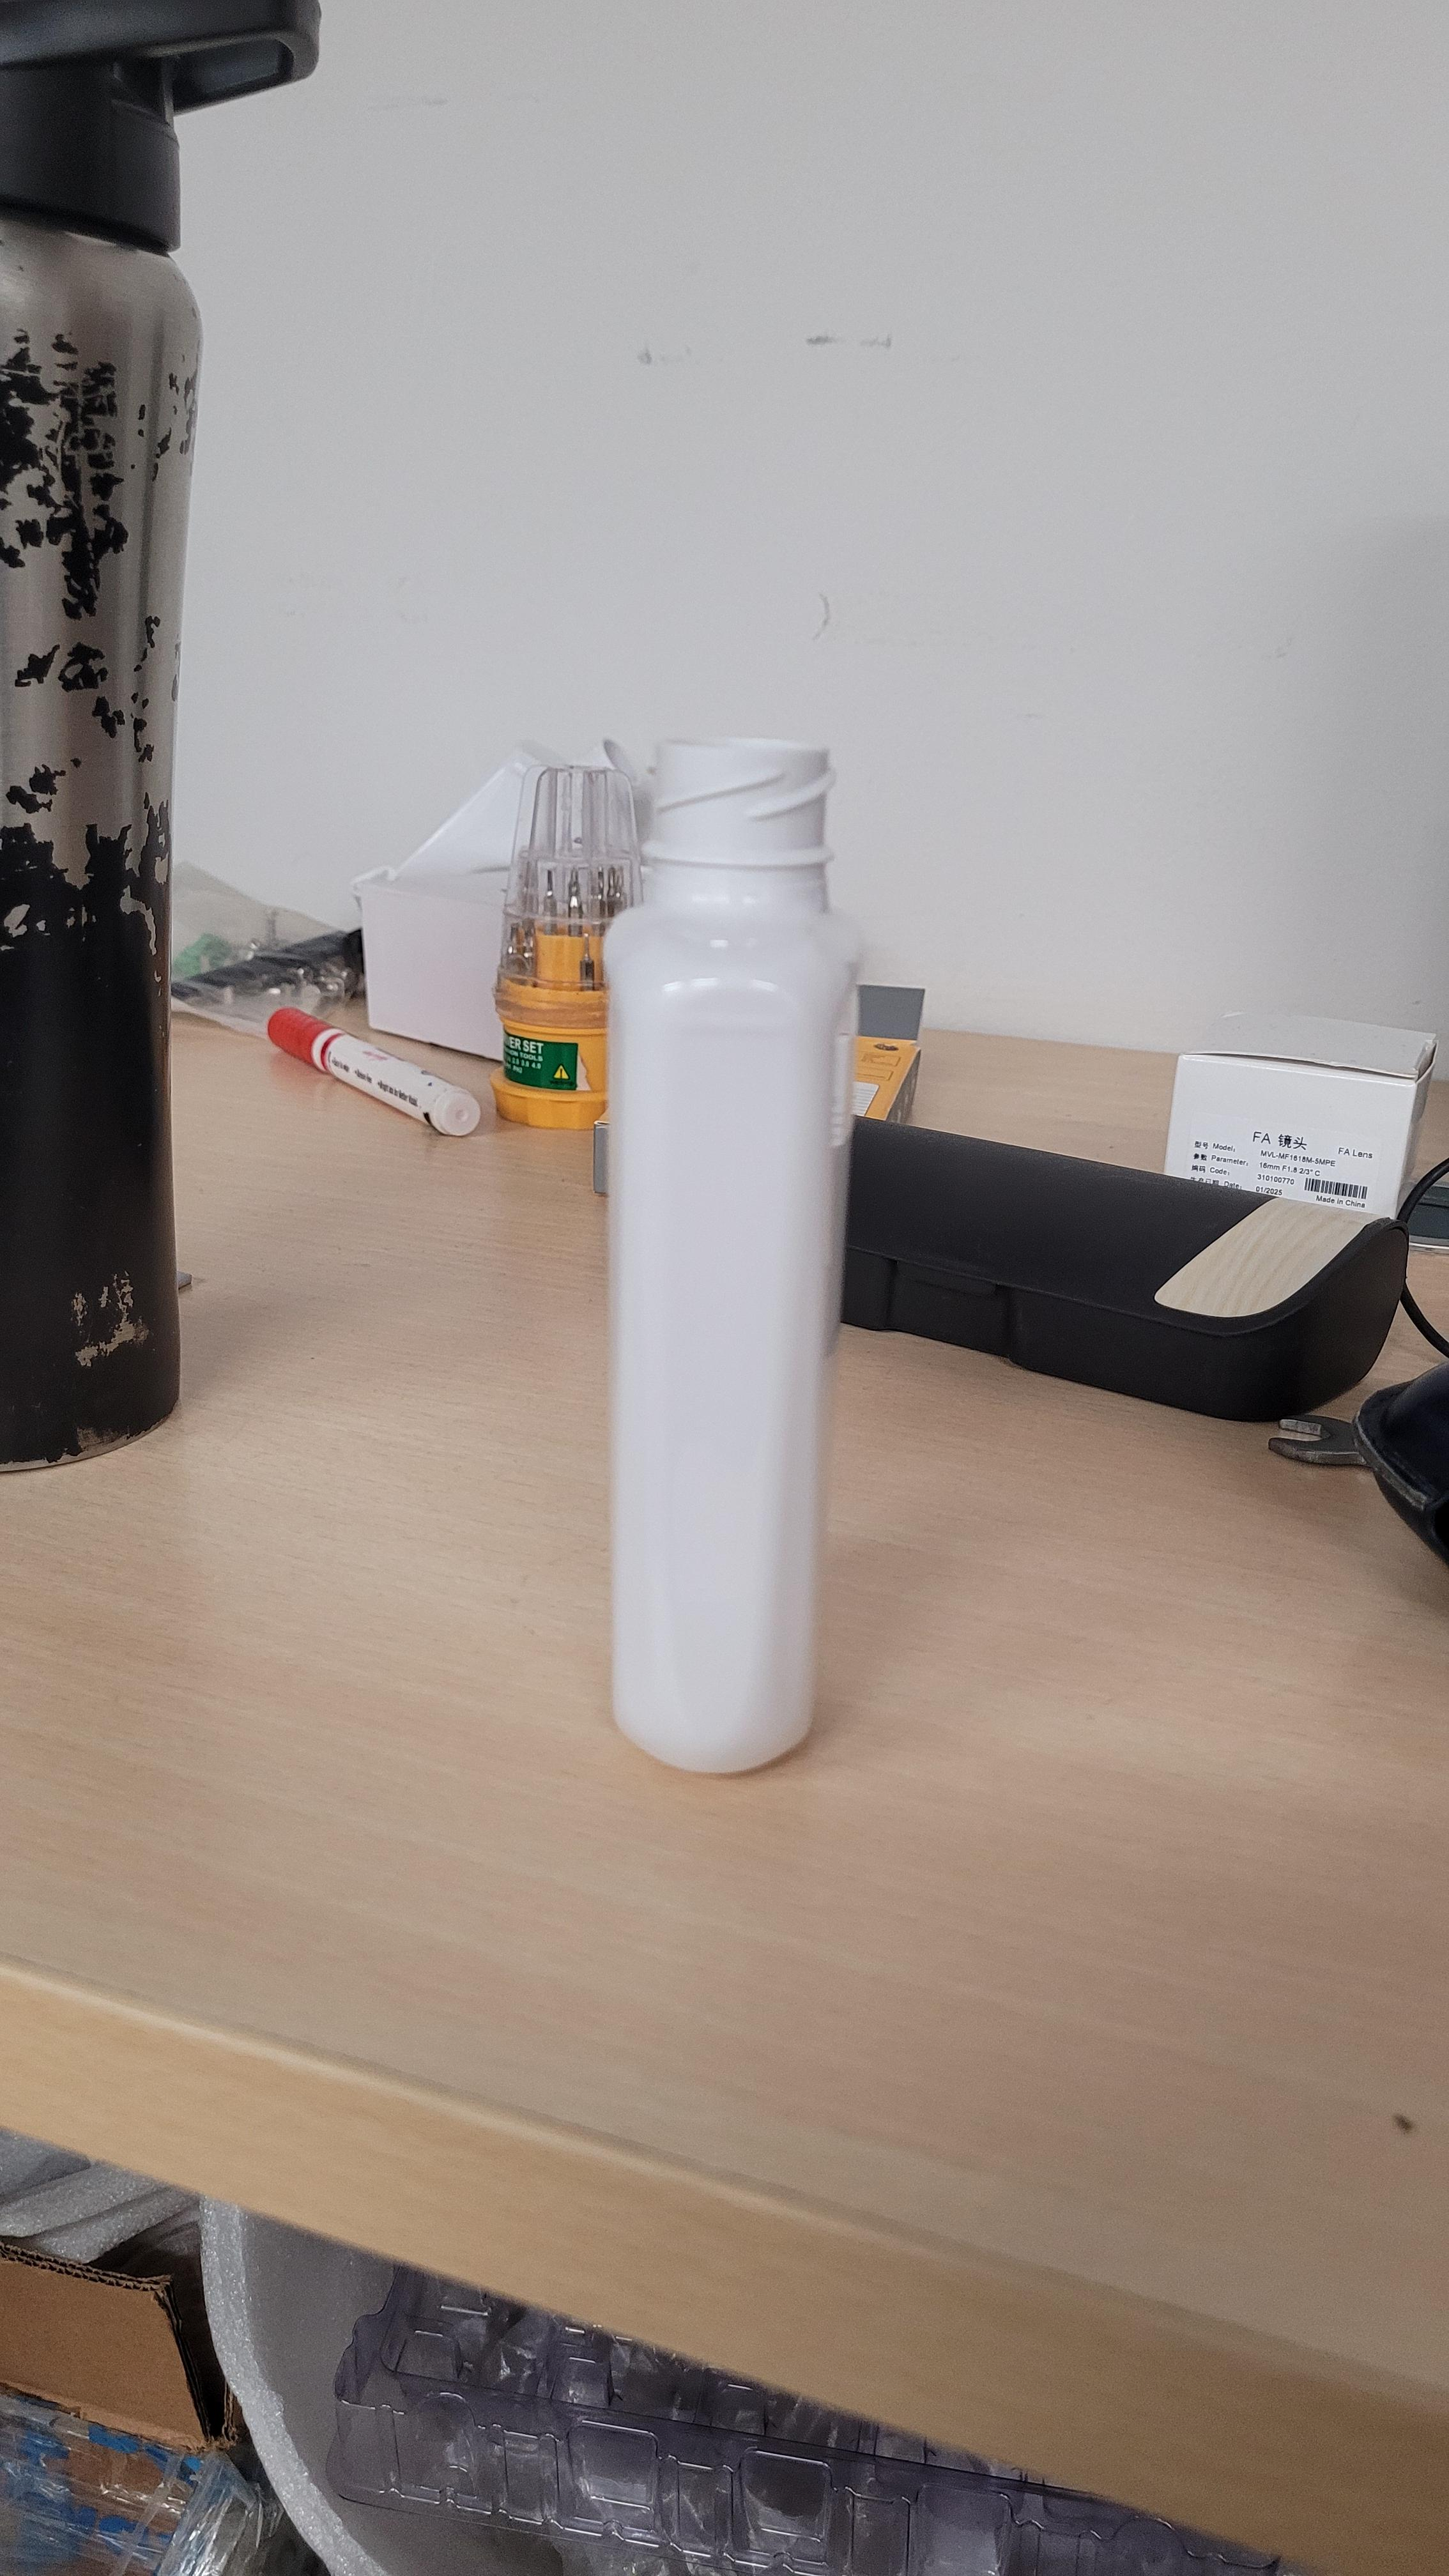Bad: (556, 692, 906, 1829)
